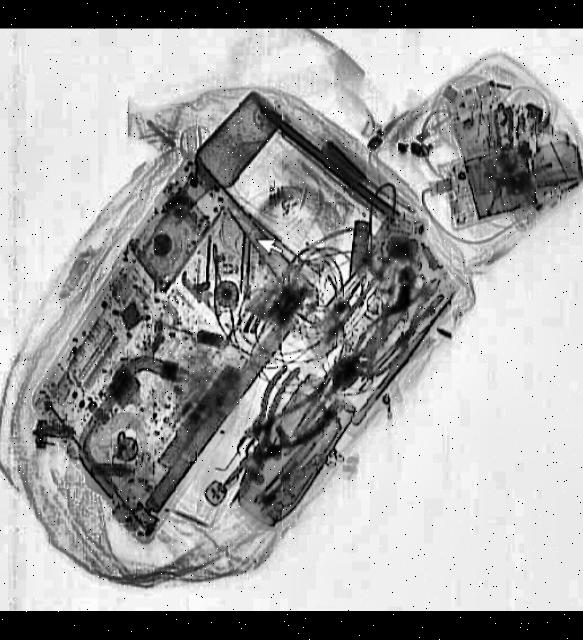Pliers: (191, 364, 338, 515), (340, 262, 455, 386), (216, 352, 327, 469)
